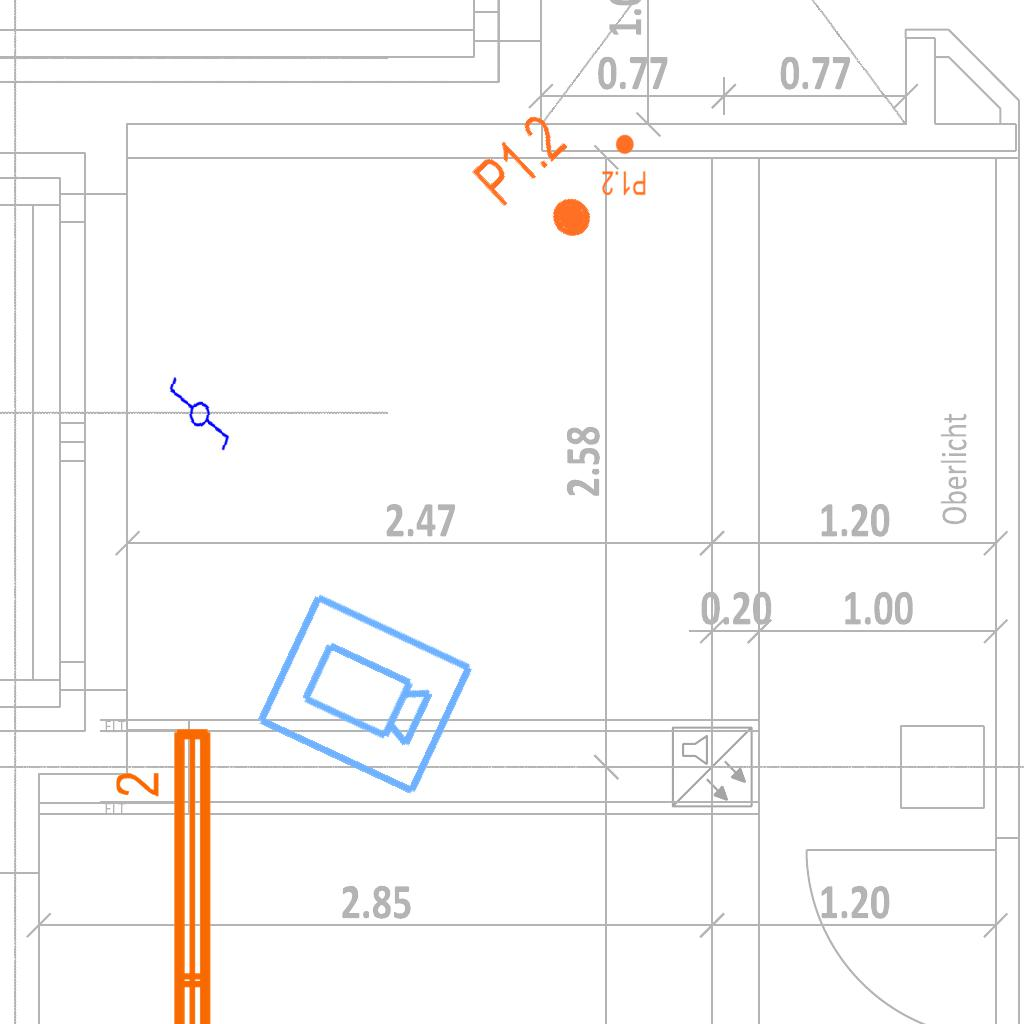Ambulanz_Pendelleuchte_LED: (111, 720, 223, 1024)
Downlight_LED_Einbauleuchten_Flur: (466, 107, 623, 265), (601, 133, 647, 197)
KFO_Kamera_mit_Festobjektiv: (248, 586, 480, 804)
Wechselschalter: (156, 374, 240, 462)
